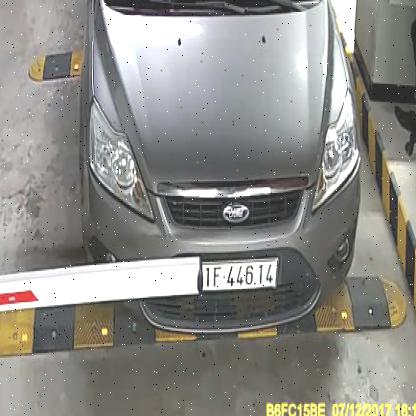license plate: (205, 262, 279, 289)
